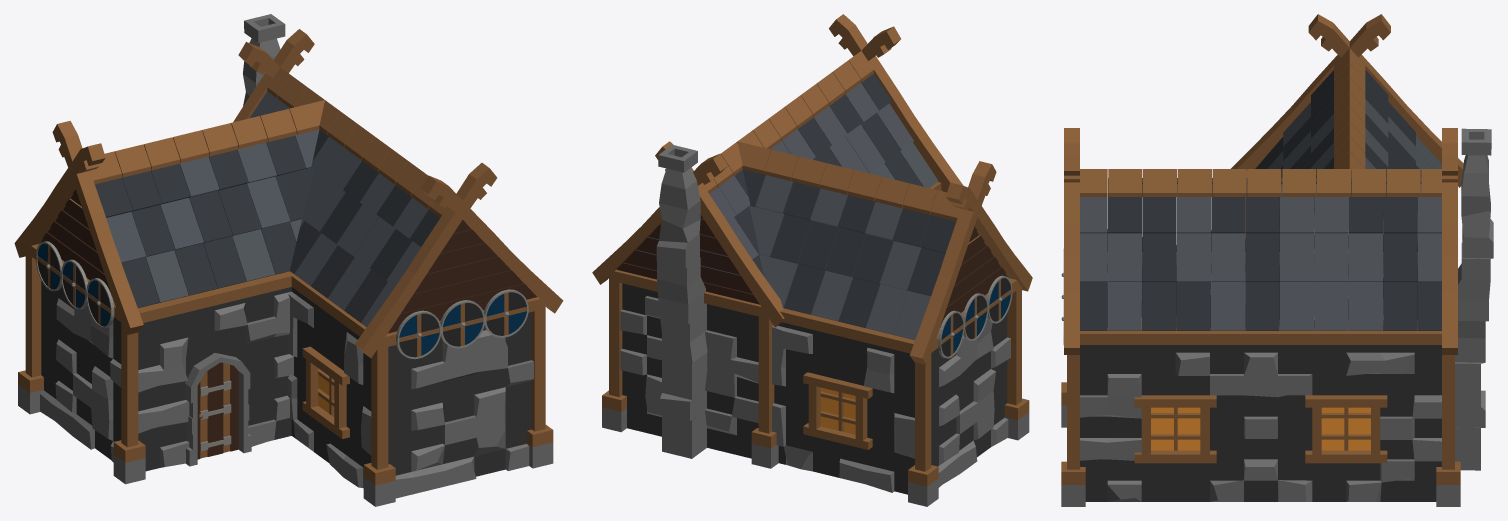
Rendered from Rich.fbx.
3 views of the same model, side by side, from view 1: azimuth 30°, elevation 25°; view 2: azimuth 150°, elevation 25°; view 3: azimuth 270°, elevation 25° (orthographic). The views are drawn at different scales.
Visible parts, largest first — view 1: Cube.005; view 2: Cube.005; view 3: Cube.005.
Boxes of the visible parts, left/top/right/bottom form: Cube.005: left=14, top=14, right=563, bottom=506; Cube.005: left=592, top=14, right=1032, bottom=506; Cube.005: left=1061, top=14, right=1493, bottom=506.
Bounding box in the file's own units: 171 × 146 × 175.
